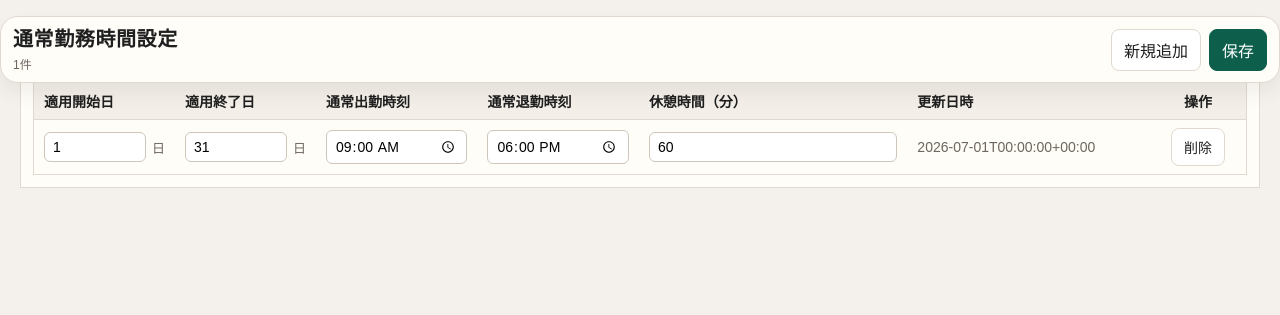
通常勤務時間設定画面 › 入力エラーを詳細表示し、エラー領域へスクロールする
Replace the text in the number field named "1行目 休憩時間" with "-1" at (773, 147), box [649, 132, 897, 162]
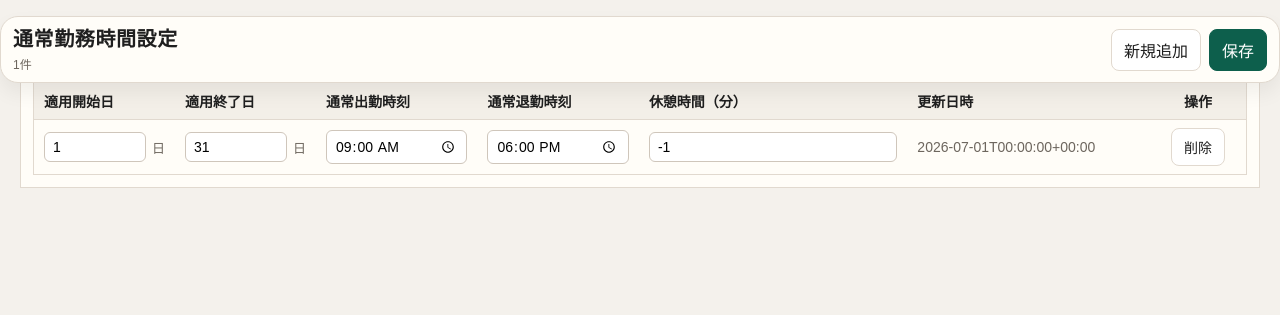
Click the button "保存" at (1238, 50), box [1209, 28, 1267, 70]
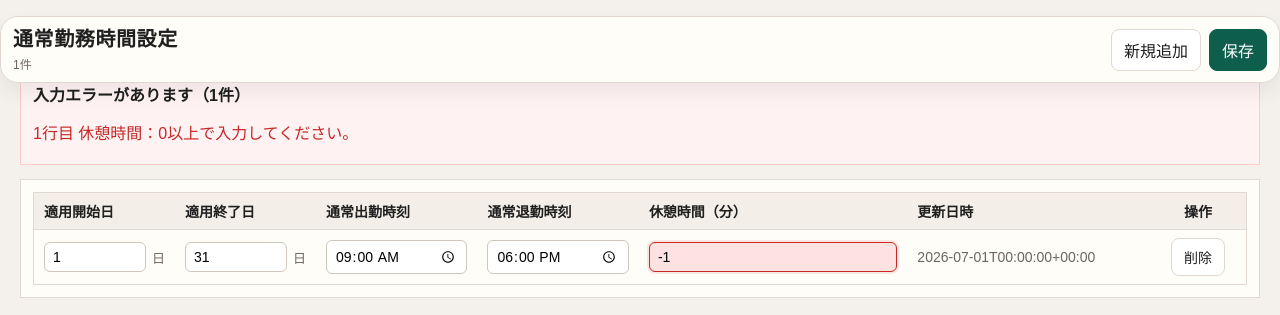
Result: the message shows "1行目 休憩時間：0以上で入力してください。" at [33, 122, 1239, 146]
